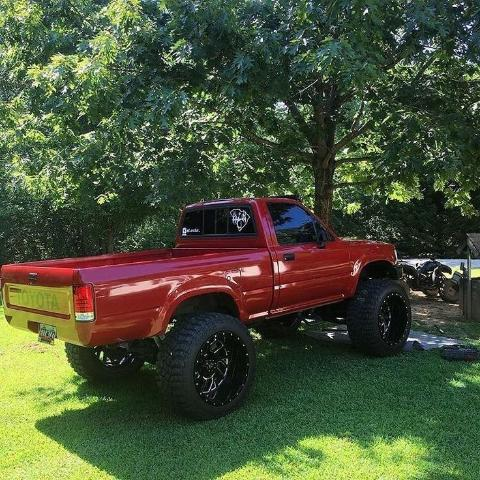pickup-truck: (0, 197, 412, 420)
